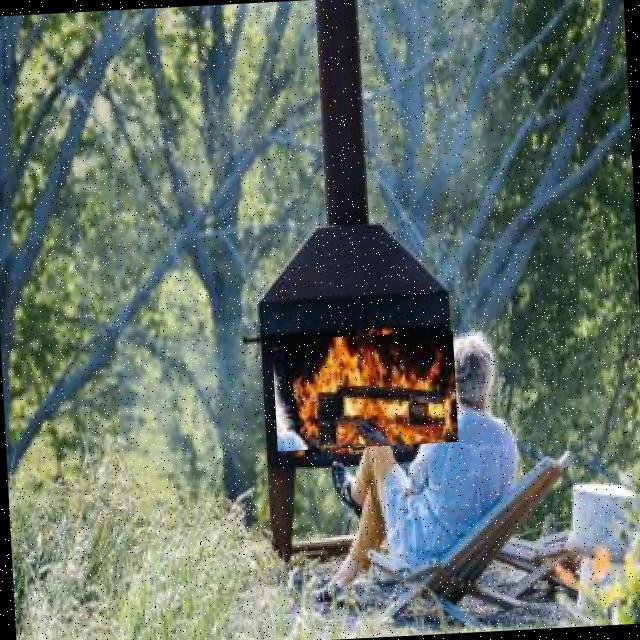fire: (272, 331, 459, 451)
